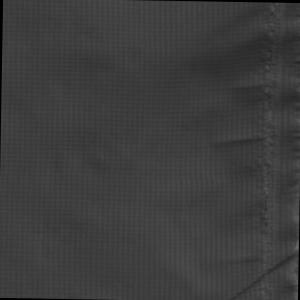Wrinkle: (190, 1, 300, 112), (220, 241, 299, 300), (208, 126, 277, 155)
